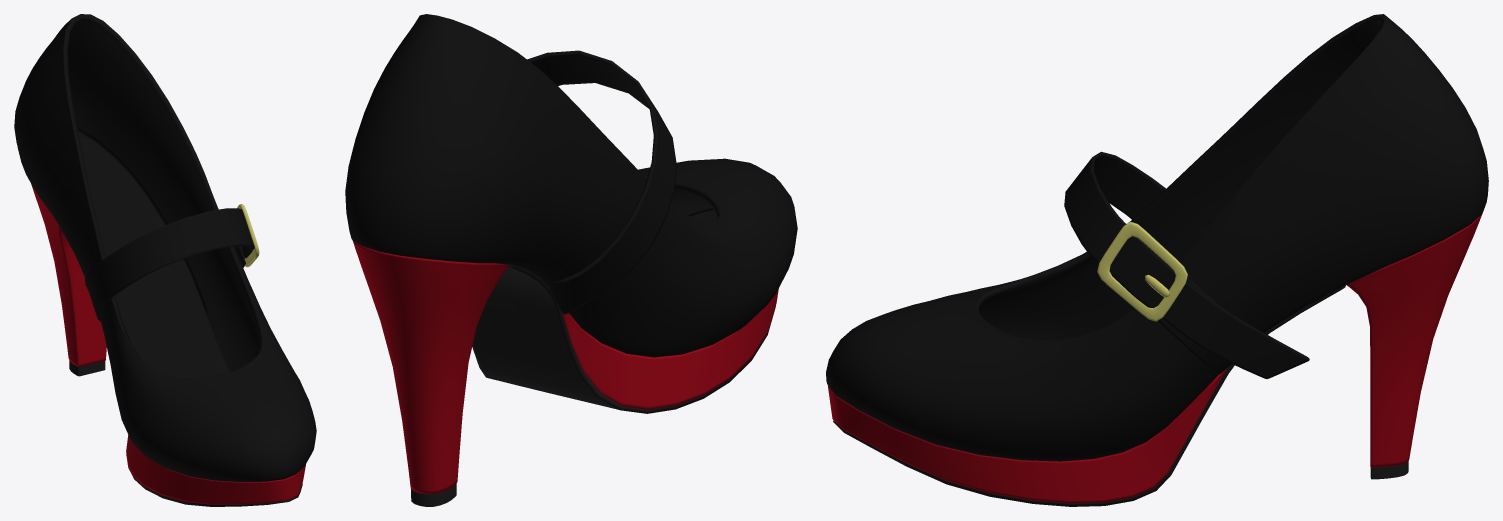
The model's file is MaryJaneHeels.fbx.
The picture shows the model from 3 angles, left to right: view 1: azimuth 30°, elevation 25°; view 2: azimuth 150°, elevation 25°; view 3: azimuth 270°, elevation 25°; orthographic projection. The views are drawn at different scales.
Visible parts, largest first — view 1: Outer.001; view 2: Outer.001; view 3: Outer.001.
Boxes of the visible parts, x1,y1,x2,y2 form: Outer.001: [14, 14, 316, 506]; Outer.001: [345, 14, 797, 506]; Outer.001: [826, 14, 1488, 506].
Bounding box in the file's own units: 7.38 × 14.85 × 19.8.
